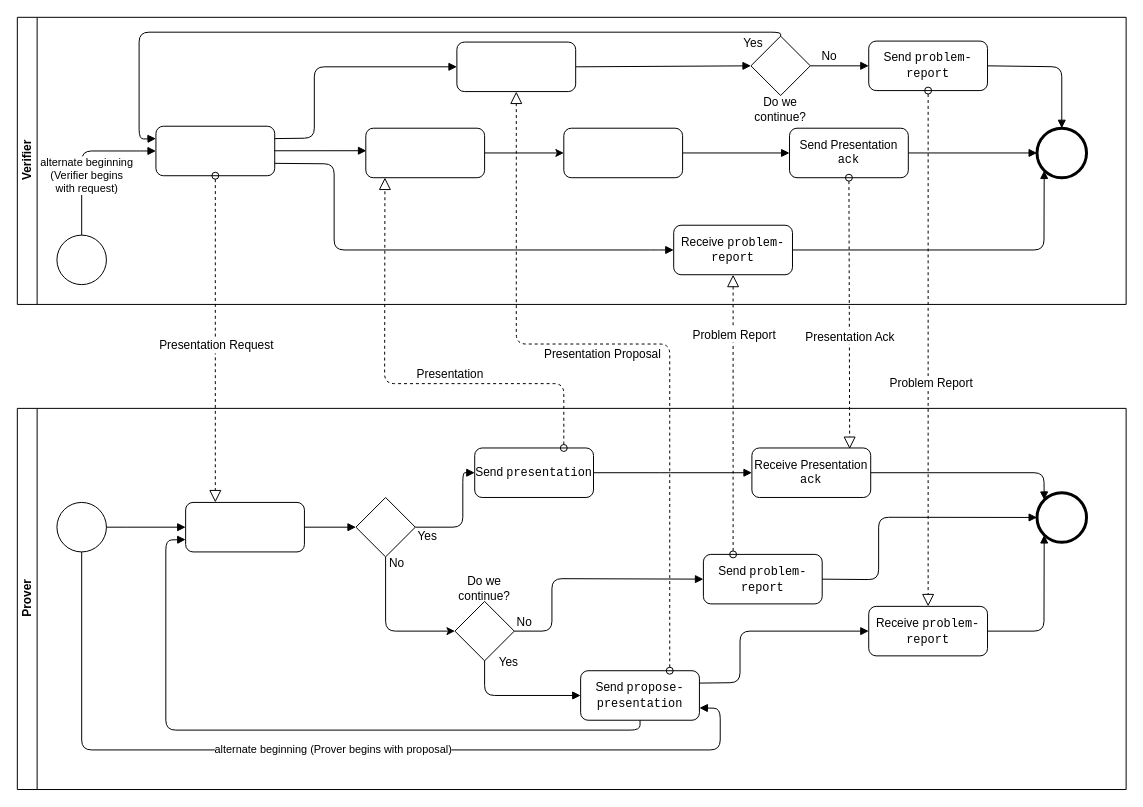
Image size: 1143x807. Some labels were removed from this diagram. Here are the shapes that lost their labels. From the top down, the centre of each, then its label:
[516,66]: Receive propose-presentation
[215,150]: Send request-presentation
[425,152]: Receive presentation
[623,152]: presentation-received
[244,526]: Receive request-presentation
[385,526]: Do we want to reveal this data?
